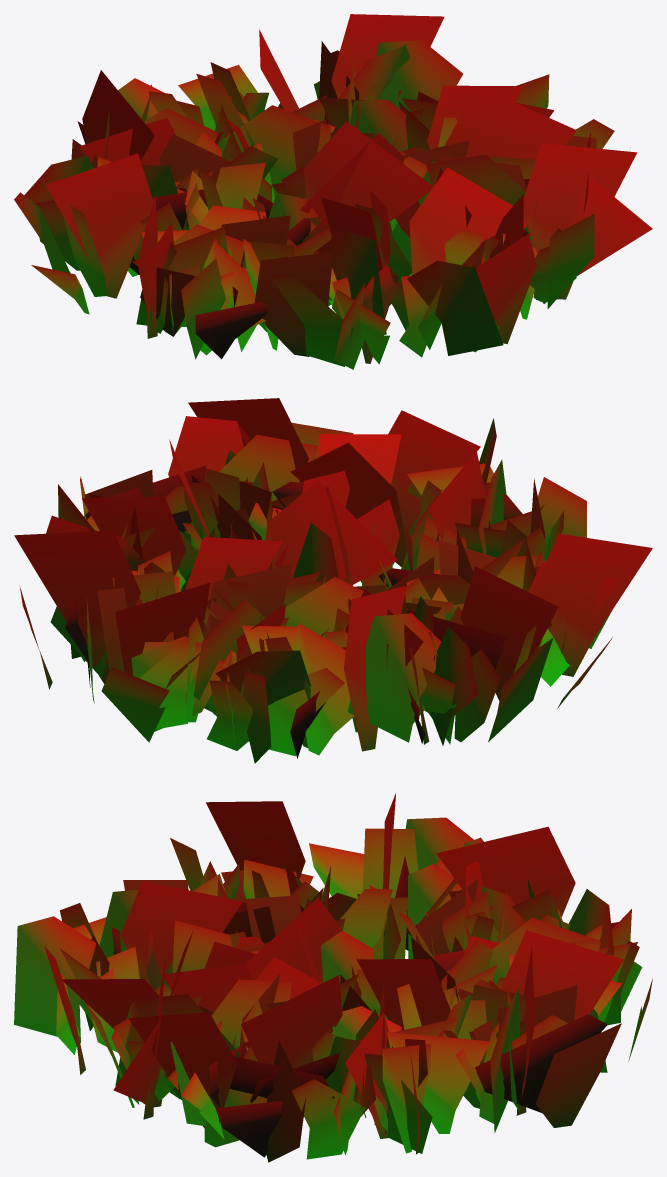
The model's file is Var1_LOD1.fbx.
3 renders of one model, top to bottom at view 1: azimuth 30°, elevation 25°; view 2: azimuth 150°, elevation 25°; view 3: azimuth 270°, elevation 25°, orthographic. The views are drawn at different scales.
Visible parts, largest first — view 1: Var1_LOD1; view 2: Var1_LOD1; view 3: Var1_LOD1.
Boxes of the visible parts, box(x1,y1,x2,y2) form: Var1_LOD1: box(14, 14, 652, 369); Var1_LOD1: box(14, 398, 652, 763); Var1_LOD1: box(14, 793, 652, 1162).
Size of the model in its own units: 85.45 by 24.38 by 85.27.
